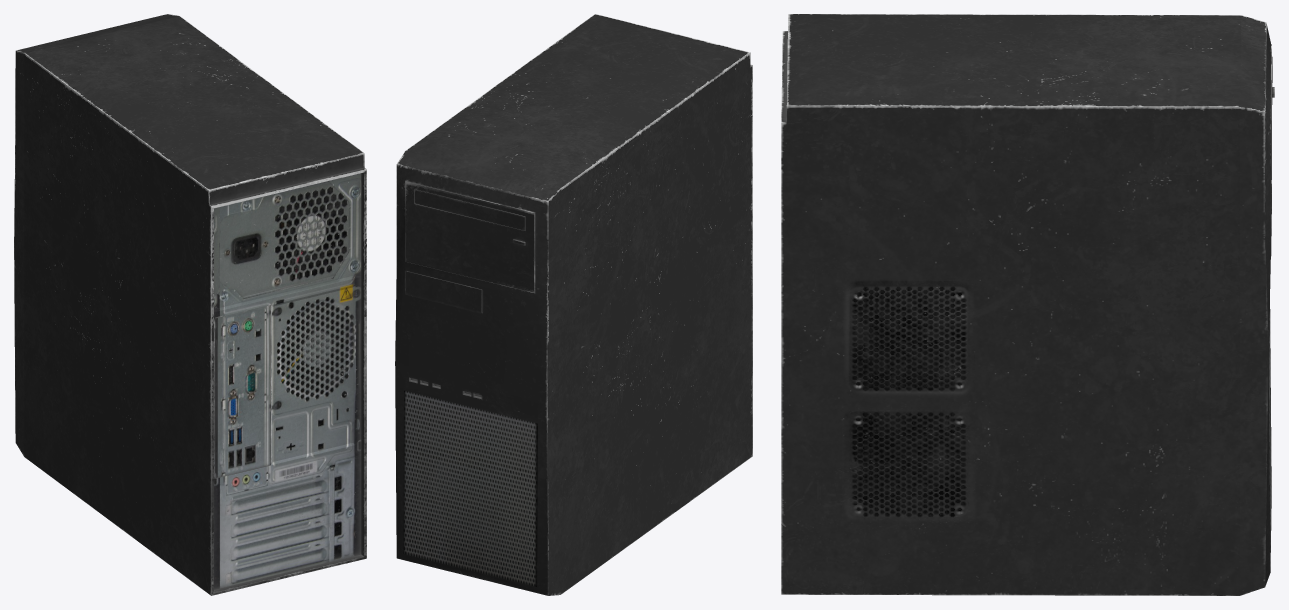
File: Computer.gltf
The picture shows the model from 3 angles, left to right: view 1: azimuth 30°, elevation 25°; view 2: azimuth 150°, elevation 25°; view 3: azimuth 270°, elevation 25°; orthographic projection. The views are drawn at different scales.
Visible parts, largest first — view 1: Computer; view 2: Computer; view 3: Computer.
Boxes of the visible parts, x1=… form: Computer: x1=14, y1=14, x2=366, y2=595; Computer: x1=395, y1=14, x2=752, y2=595; Computer: x1=781, y1=14, x2=1274, y2=595.
Bounding box in the file's own units: 0.1821 × 0.4515 × 0.4087.
Materials: 1 (1 with a texture image).
